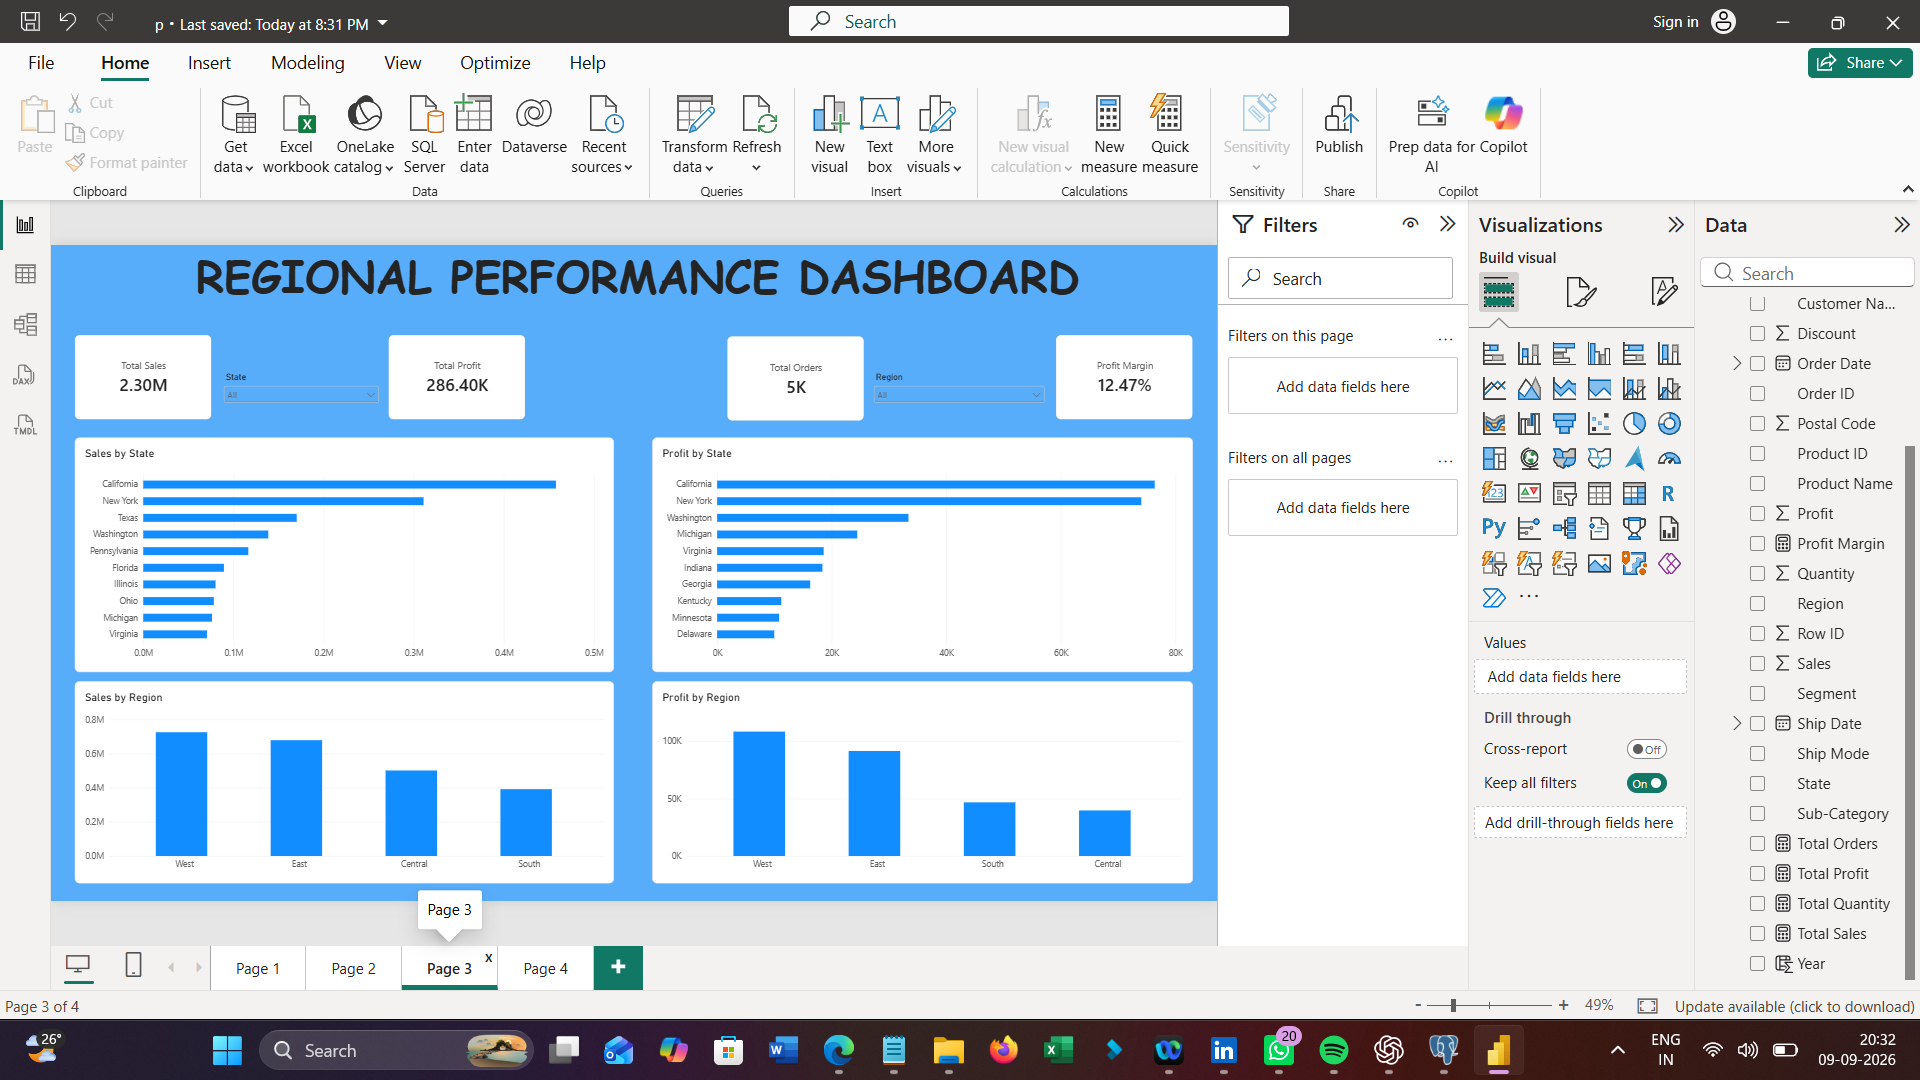

What the dashboard file says about the page in this screenshot:
{"tool":"powerbi","page":{"name":"Page 3","canvas":[1920,1080],"ordinal":2},"visuals":[{"type":"textbox","box":[9.3,0,1911.6,116.3],"z":0},{"type":"cardVisual","fields":{"Data":["superstore.Profit Margin"]},"box":[1655.8,148.8,225.6,139.5],"z":1000},{"type":"cardVisual","fields":{"Data":["superstore.Total Orders"]},"box":[1114,151.2,225,139],"z":2000},{"type":"cardVisual","fields":{"Data":["superstore.Total Profit"]},"box":[555.8,148.8,225.6,139.5],"z":3000},{"type":"cardVisual","fields":{"Data":["superstore.Total Sales"]},"box":[39.5,148.8,225,139],"z":4000},{"type":"clusteredColumnChart","title":"Sales by Region","fields":{"Category":["superstore.Region"],"Y":["superstore.Total Sales"]},"box":[39.5,718.6,888.4,332.6],"z":5000},{"type":"clusteredColumnChart","title":"Profit by Region","fields":{"Category":["superstore.Region"],"Y":["superstore.Total Profit"]},"box":[990.7,718.6,890.7,332.6],"z":6000},{"type":"clusteredBarChart","title":"Sales by State","fields":{"Category":["superstore.State"],"Y":["superstore.Total Sales"]},"box":[39.5,316.3,888.4,386],"z":7000},{"type":"clusteredBarChart","title":"Profit by State","fields":{"Category":["superstore.State"],"Y":["superstore.Total Profit"]},"box":[990.7,316.3,890.7,386],"z":8000},{"type":"slicer","fields":{"Values":["superstore.Region"]},"box":[1351.2,207,290.7,81.4],"z":9000},{"type":"slicer","fields":{"Values":["superstore.State"]},"box":[279.1,207,265.1,81.4],"z":10000}]}

Visuals, with their boxes on the page's 1920x1080 design canvas (x1, y1, x2, y2). These are canvas units, not pixel positions in the 1920x1080 screenshot, which may show the page scaled, cropped or inside an application window:
textbox: (left=9, top=0, right=1921, bottom=116)
cardVisual - superstore.Profit Margin: (left=1656, top=149, right=1881, bottom=288)
cardVisual - superstore.Total Orders: (left=1114, top=151, right=1339, bottom=290)
cardVisual - superstore.Total Profit: (left=556, top=149, right=781, bottom=288)
cardVisual - superstore.Total Sales: (left=40, top=149, right=264, bottom=288)
"Sales by Region" clusteredColumnChart: (left=40, top=719, right=928, bottom=1051)
"Profit by Region" clusteredColumnChart: (left=991, top=719, right=1881, bottom=1051)
"Sales by State" clusteredBarChart: (left=40, top=316, right=928, bottom=702)
"Profit by State" clusteredBarChart: (left=991, top=316, right=1881, bottom=702)
slicer - superstore.Region: (left=1351, top=207, right=1642, bottom=288)
slicer - superstore.State: (left=279, top=207, right=544, bottom=288)
